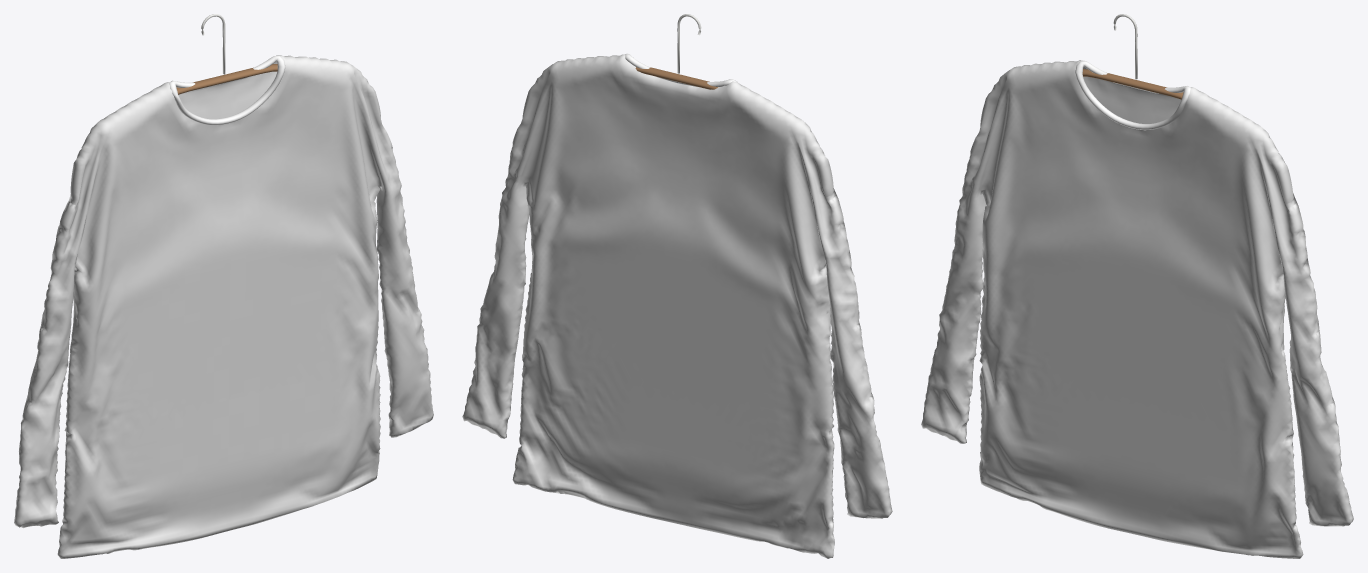
Rendered from full-sleeve-v3.glb.
3 renders of one model, left to right at view 1: azimuth 30°, elevation 25°; view 2: azimuth 150°, elevation 25°; view 3: azimuth 330°, elevation 25°, orthographic.
Visible parts, largest first — view 1: Shirt, Collar, HangerWood; view 2: Shirt, HangerWood; view 3: Shirt, Collar, HangerWood.
Part boxes in pixels (<box>): Shirt: <box>14,55,433,558</box>; Collar: <box>169,56,285,125</box>; HangerWood: <box>176,64,277,94</box>; Shirt: <box>462,54,892,558</box>; HangerWood: <box>635,67,717,89</box>; Shirt: <box>921,60,1353,558</box>; Collar: <box>1075,61,1190,130</box>; HangerWood: <box>1082,69,1183,99</box>.
Bounding box in the file's own units: 0.6968 × 0.8123 × 0.0549.
4 materials, 1 textured.
